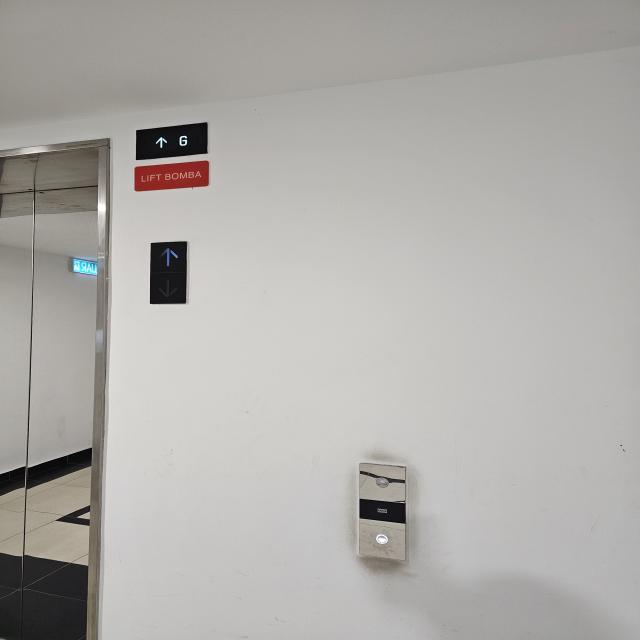door: (2, 140, 109, 638)
